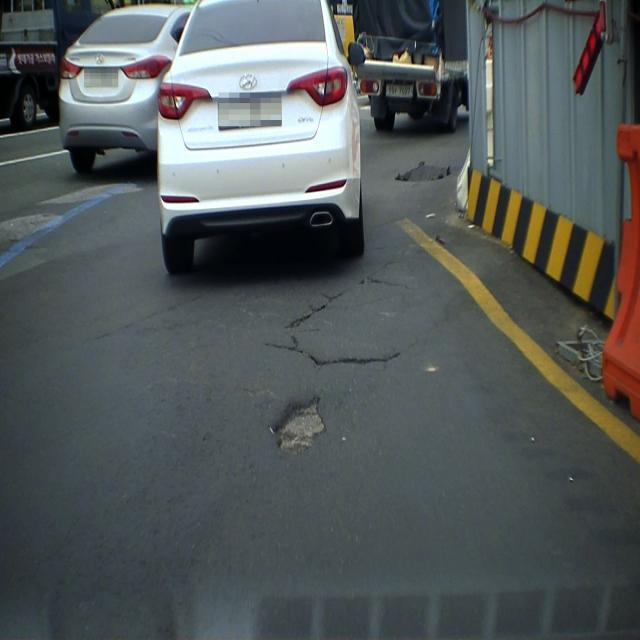Pothole: (258, 382, 333, 469)
